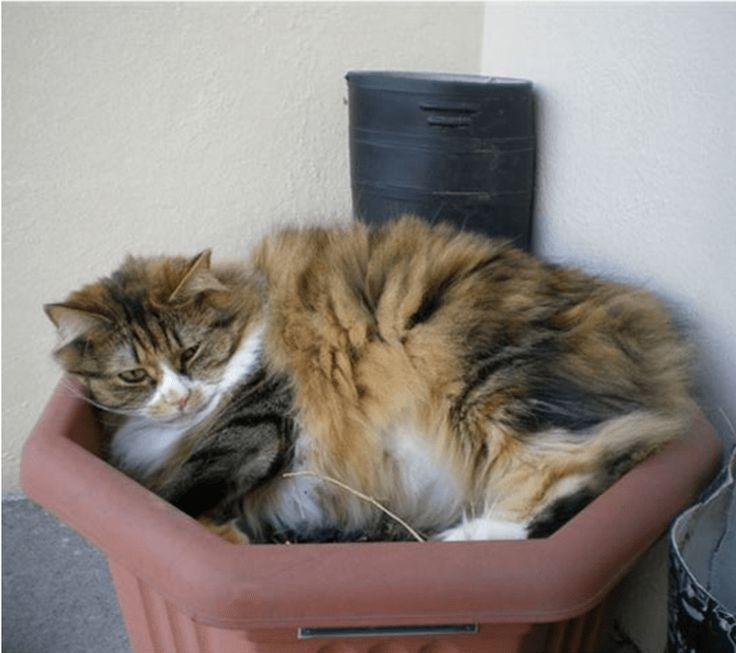kedo: (42, 212, 698, 538)
